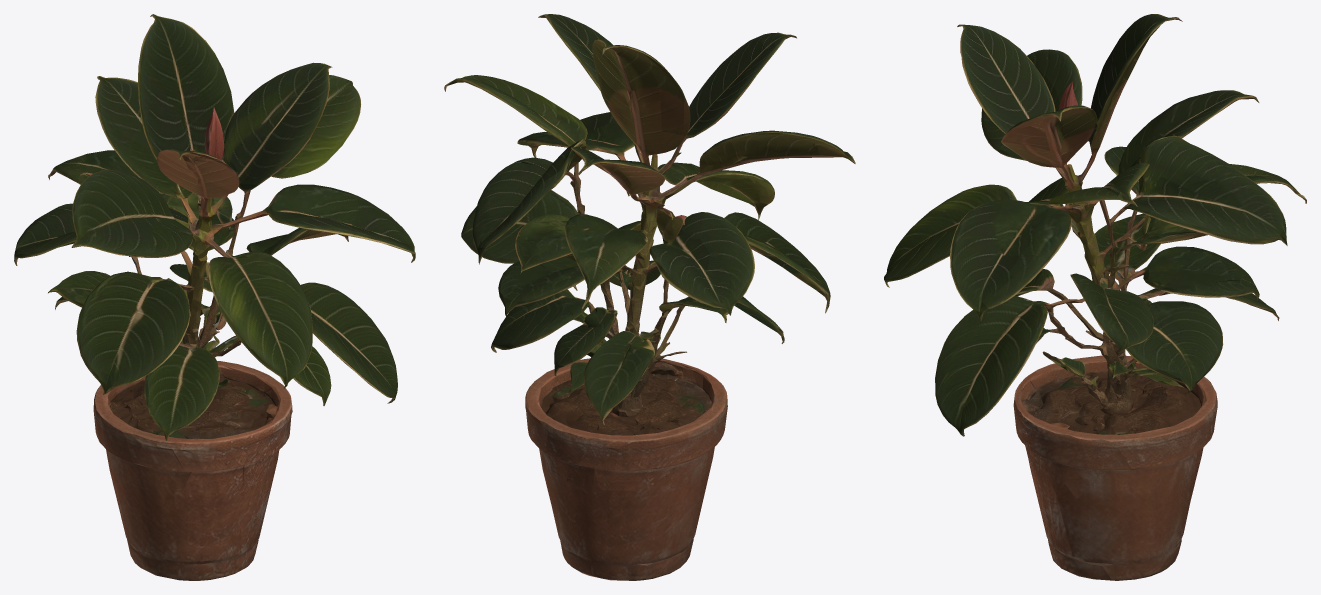
File: plant.glb
3 views of the same model, side by side, from view 1: azimuth 30°, elevation 25°; view 2: azimuth 150°, elevation 25°; view 3: azimuth 270°, elevation 25° (orthographic). The views are drawn at different scales.
Parts seen in each view (by area): view 1: Mesh_0; view 2: Mesh_0; view 3: Mesh_0.
Part boxes in pixels (left/top/right/bottom): Mesh_0: left=14, top=14, right=415, bottom=580; Mesh_0: left=444, top=14, right=855, bottom=580; Mesh_0: left=884, top=14, right=1306, bottom=580.
Size of the model in its own units: 1.3 by 1.9 by 1.36.
Materials: 1 (1 with a texture image).
